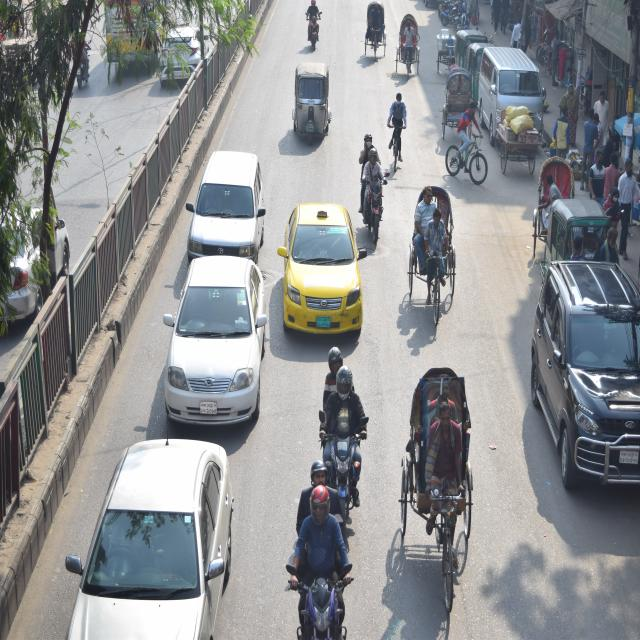car: (57, 436, 243, 640), (524, 264, 640, 501), (163, 257, 271, 428), (278, 208, 363, 348), (0, 196, 74, 324), (188, 144, 268, 256), (160, 27, 210, 87)
microbus: (478, 42, 546, 151)
motorbike: (278, 518, 358, 640), (310, 392, 368, 520), (353, 156, 389, 254), (299, 6, 322, 56)
